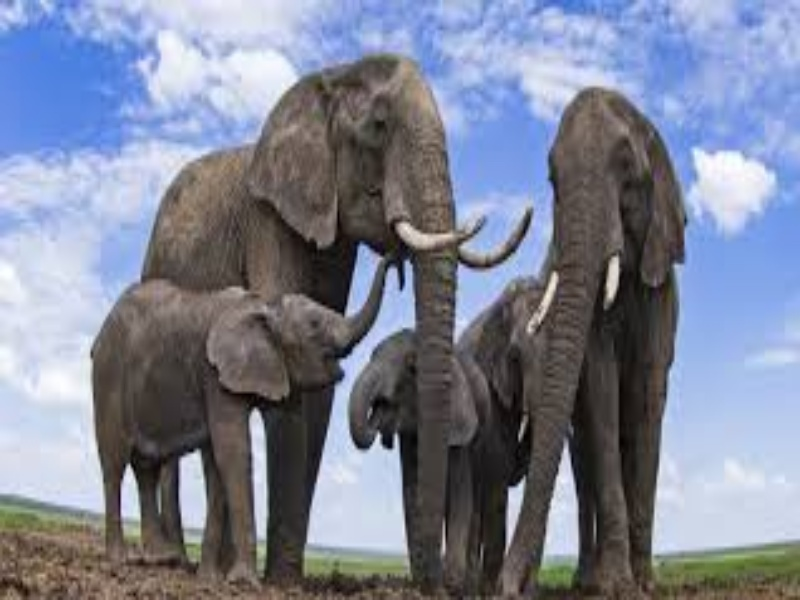elephant: (75, 262, 422, 590), (499, 86, 730, 574)
